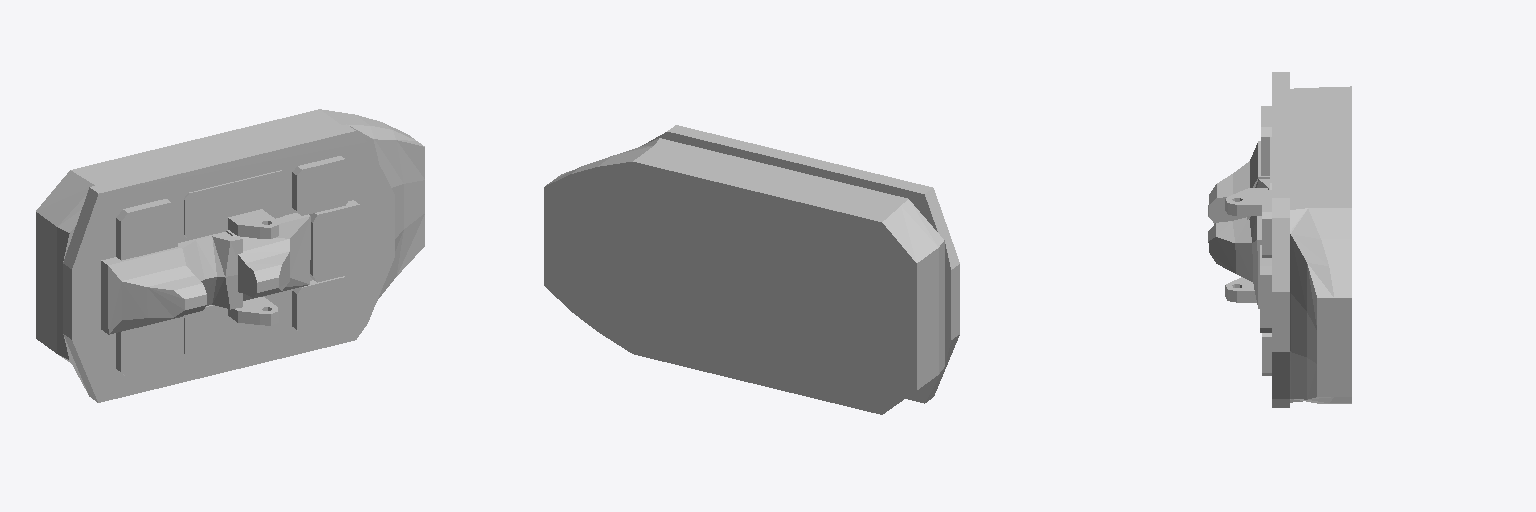
File: r_foot.obj
3 views of the same model, side by side, from view 1: azimuth 30°, elevation 25°; view 2: azimuth 150°, elevation 25°; view 3: azimuth 270°, elevation 25° (orthographic).
Parts seen in each view (by area): view 1: r_foot_r_footMesh; view 2: r_foot_r_footMesh; view 3: r_foot_r_footMesh.
Boxes of the visible parts, x1,y1,x2,y2 form: r_foot_r_footMesh: [36, 109, 424, 402]; r_foot_r_footMesh: [544, 125, 959, 414]; r_foot_r_footMesh: [1208, 72, 1351, 407].
Size of the model in its own units: 0.2629 by 0.1398 by 0.0866.